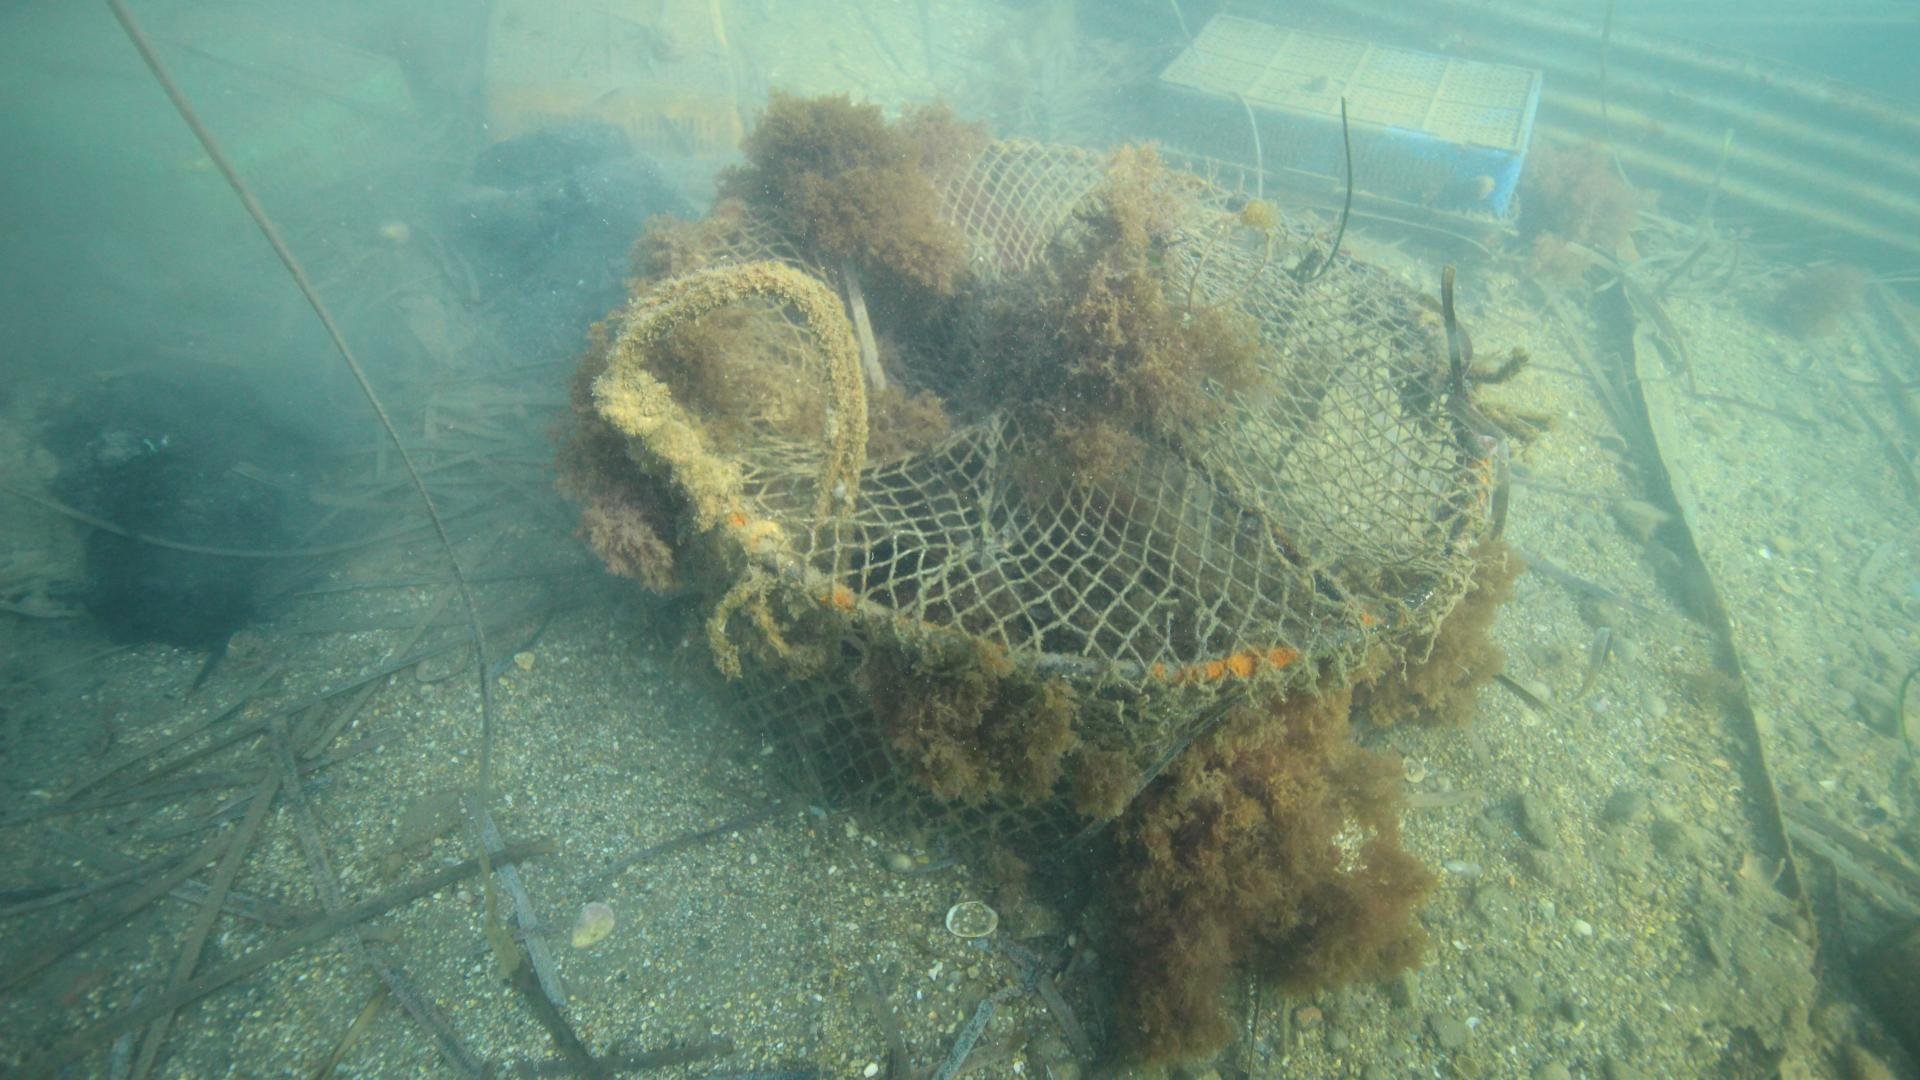circular fish trap: (607, 135, 1491, 874)
